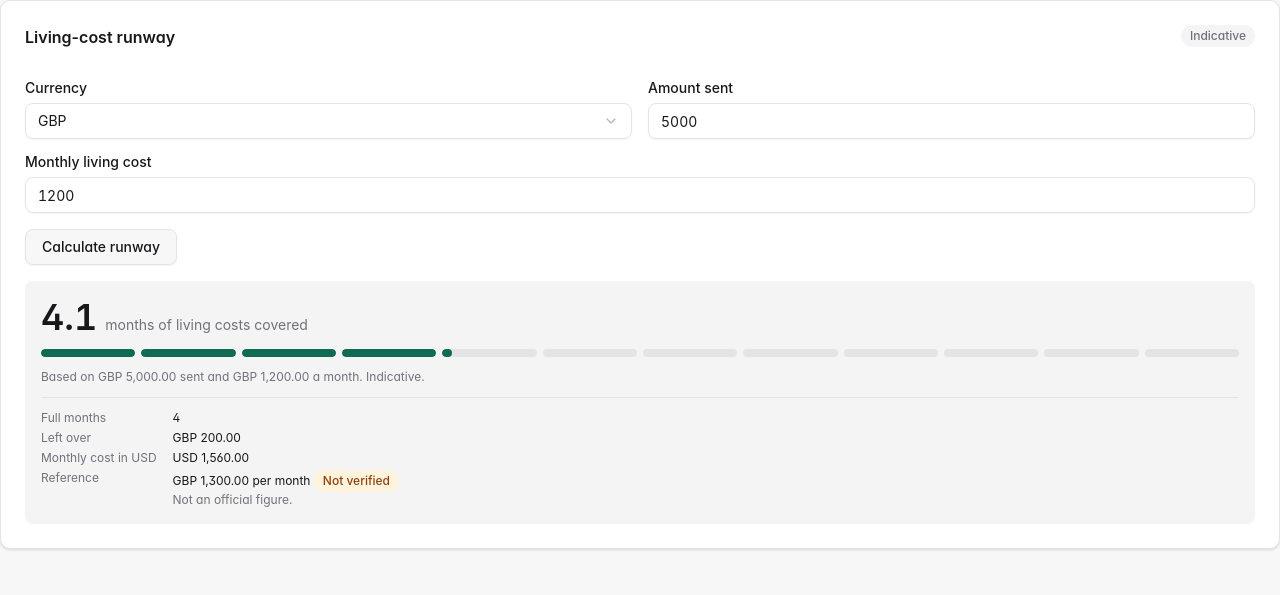
Test: RunwayCard › explains a bad amount instead of sending it
This screenshot has width=1280, height=595.
Check: the text "months of living costs covered" is shown, box [105,315,308,335]
Replace the text in the field labelled "Amount sent" with "lots" at x=952, y=121, box [648,103,1255,139]
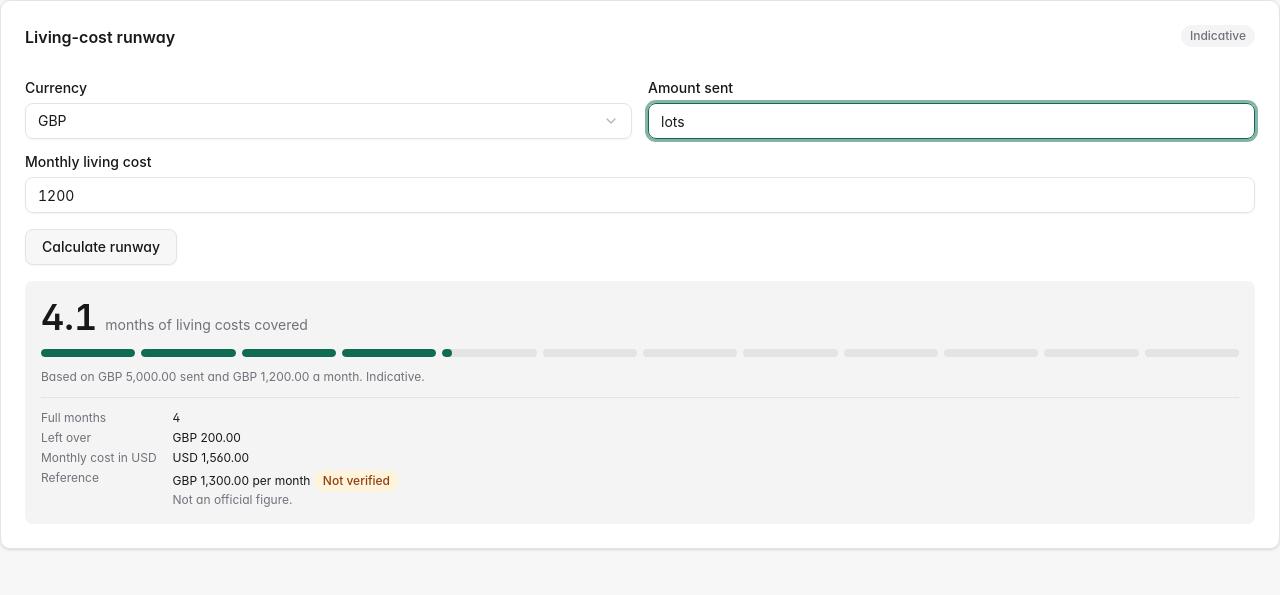
Click the button "Calculate runway" at x=101, y=247, box [25,229,177,265]
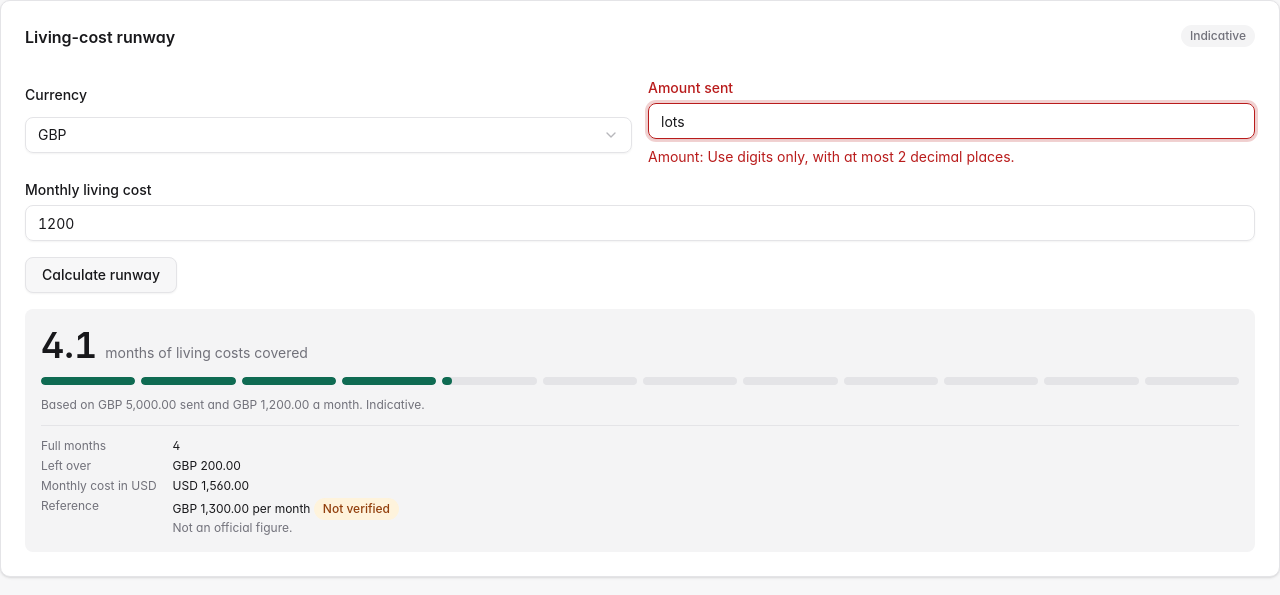
Check: the text "Amount: Use digits only, with at most 2 decimal places." is shown, box [648,148,1015,165]
